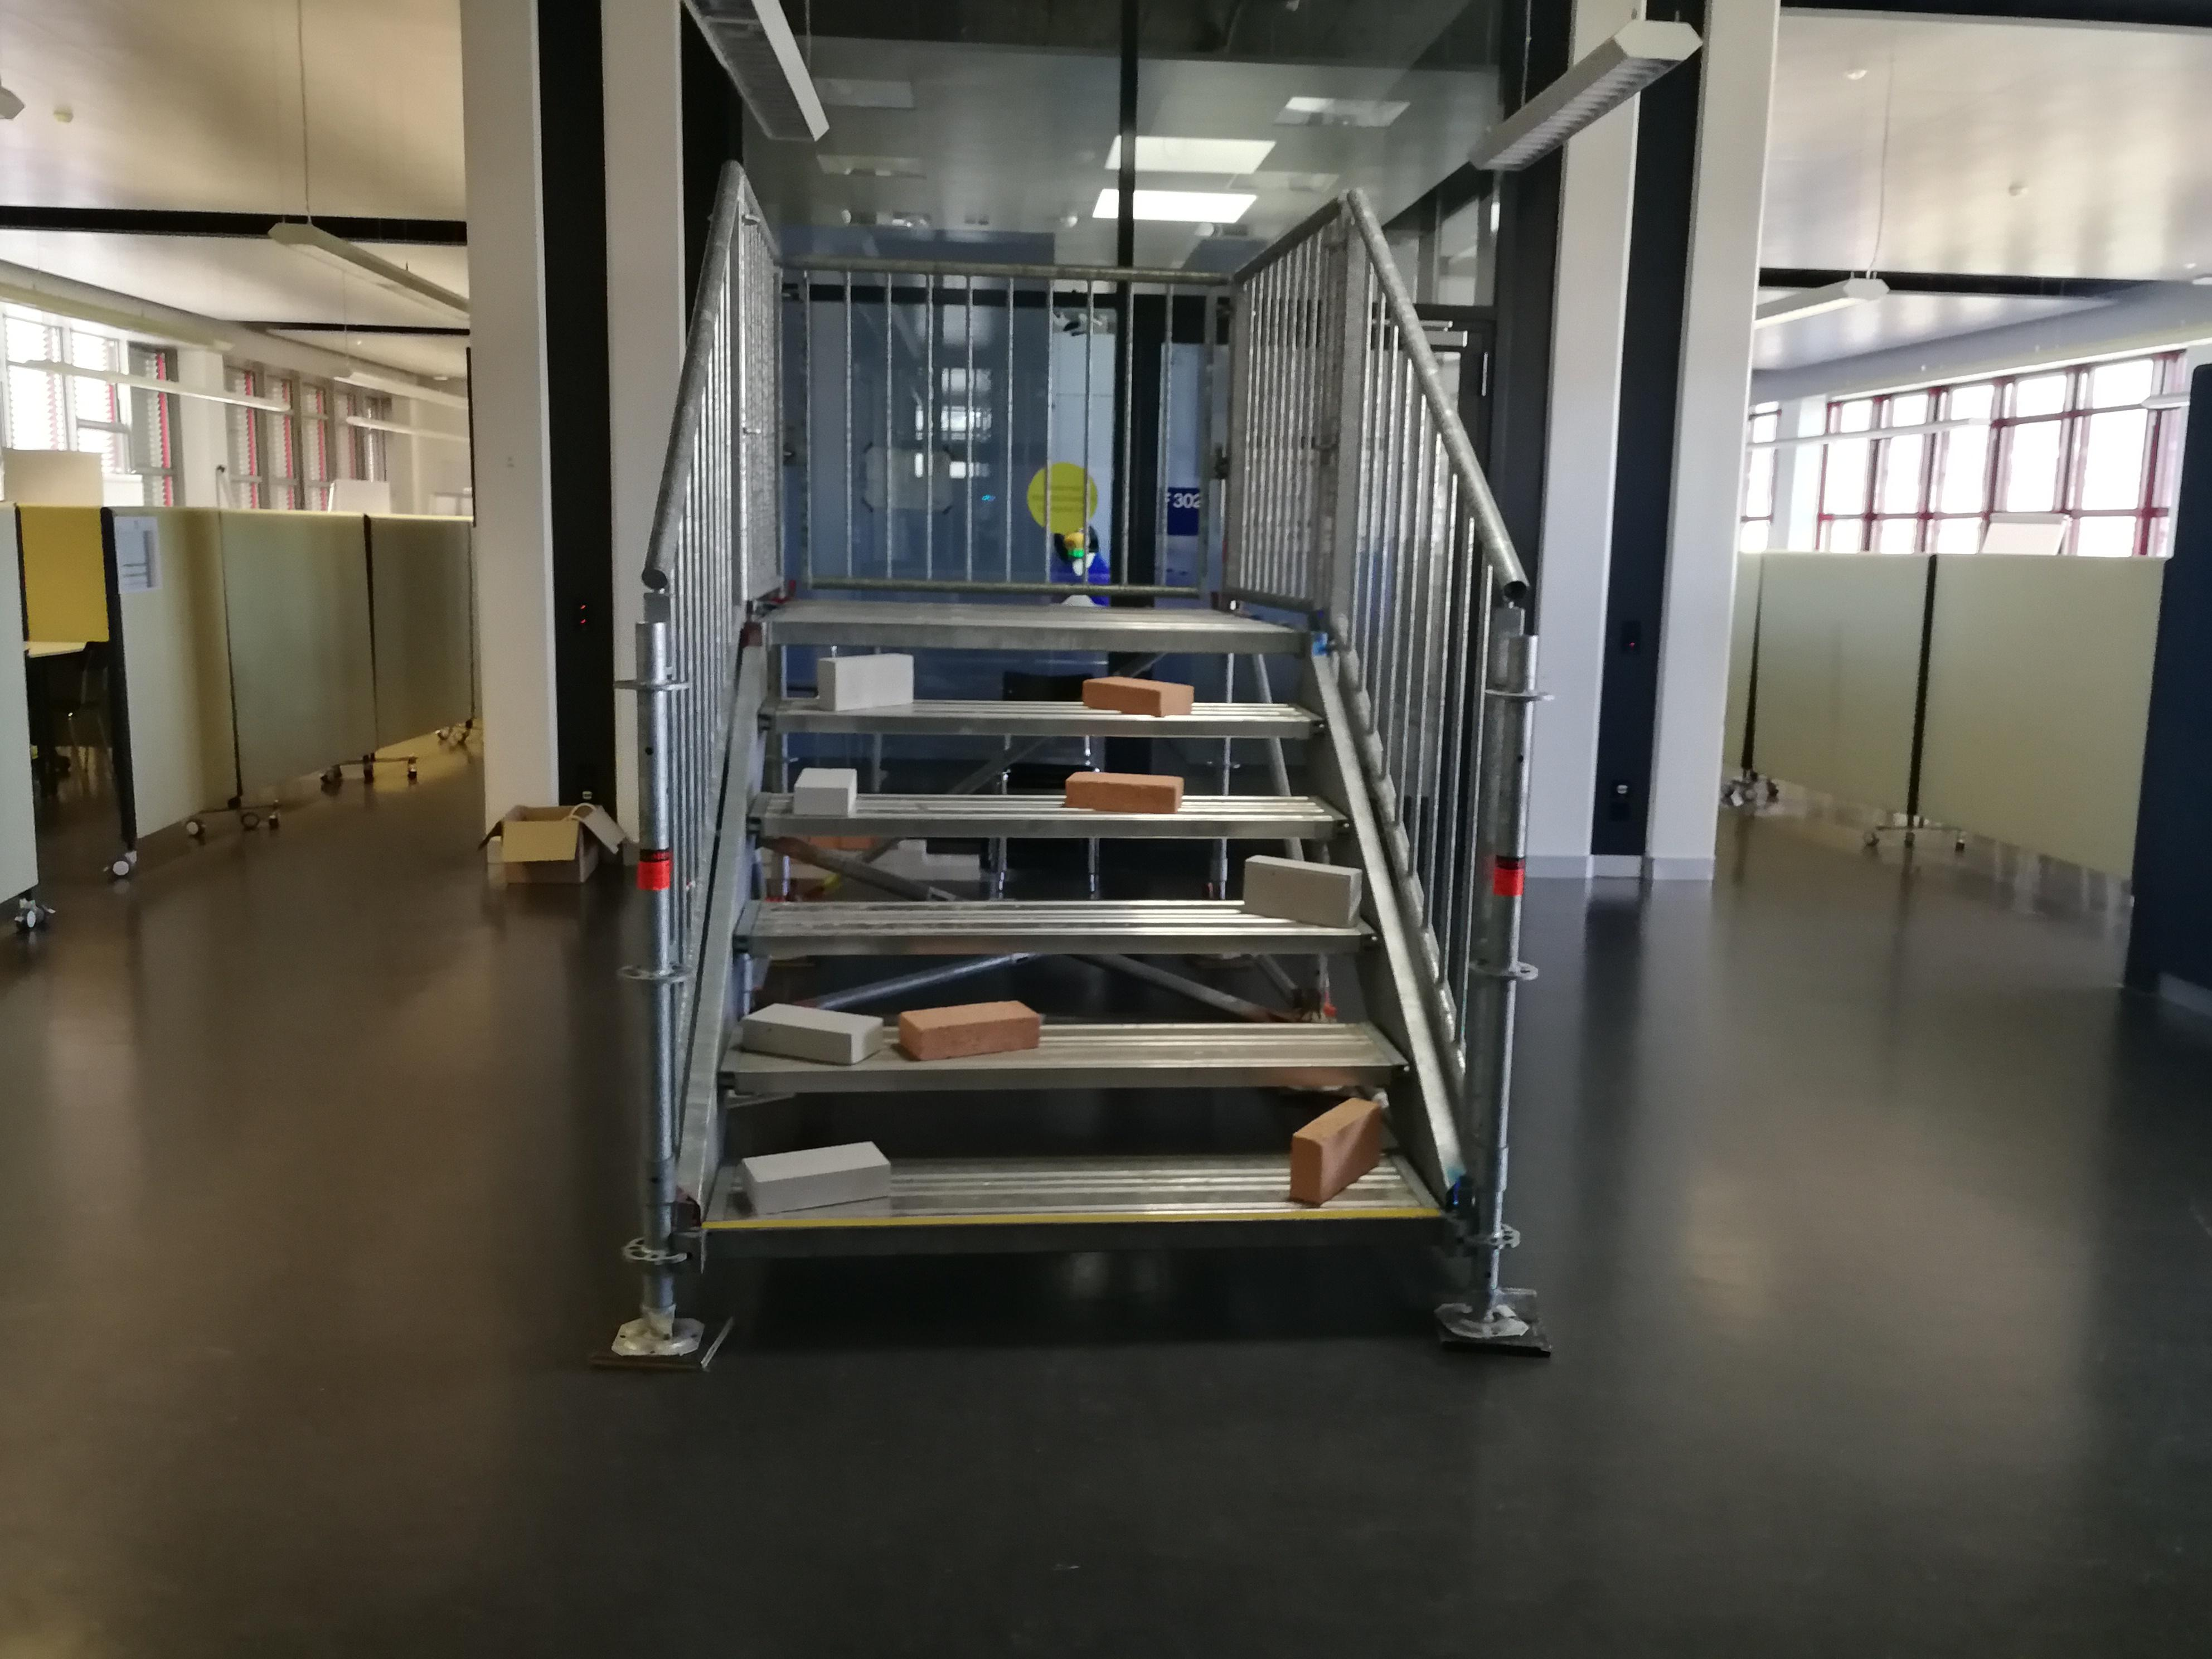brick: (744, 1140, 888, 1209), (738, 1004, 883, 1070), (1289, 1103, 1379, 1202), (1240, 856, 1362, 927), (895, 999, 1038, 1058), (819, 652, 913, 709), (1068, 770, 1183, 812), (1080, 680, 1191, 714), (792, 769, 855, 812)
edge: (705, 1211, 1454, 1258), (718, 1058, 1414, 1091), (766, 619, 1303, 655), (735, 927, 1386, 955), (758, 713, 1324, 741), (747, 814, 1357, 838)
stairs: (583, 164, 1552, 1377)
steps: (693, 606, 1467, 1276)
